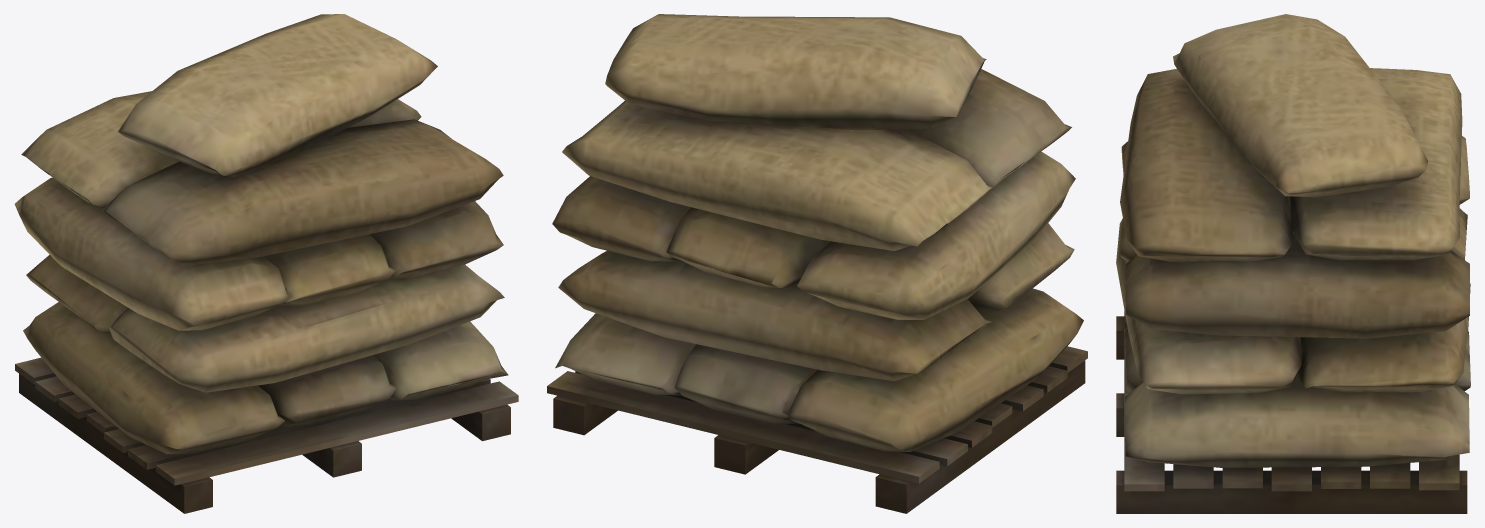
File: sack_pile.glb
3 views of the same model, side by side, from view 1: azimuth 30°, elevation 25°; view 2: azimuth 150°, elevation 25°; view 3: azimuth 270°, elevation 25° (orthographic). The views are drawn at different scales.
Visible parts, largest first — view 1: body; view 2: body; view 3: body.
Part boxes in pixels (x1,y1,x2,y2): body: (14, 14, 518, 513); body: (547, 14, 1087, 513); body: (1116, 14, 1470, 513).
Size of the model in its own units: 1.24 by 1.17 by 1.01.
1 material, 1 textured.
